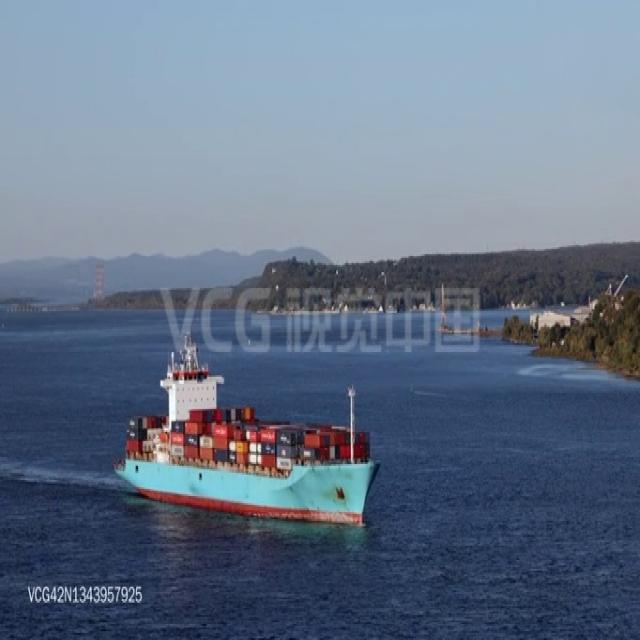cargoship: (110, 334, 375, 521)
